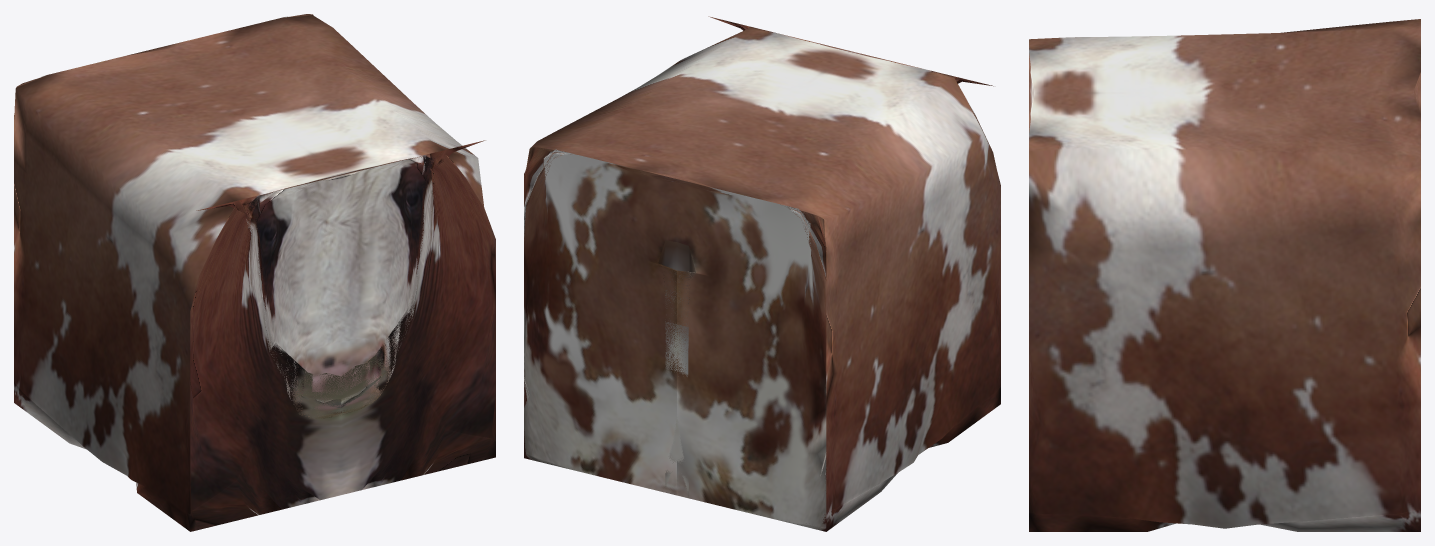
Rendered from cow-cube.glb.
The picture shows the model from 3 angles, left to right: view 1: azimuth 30°, elevation 25°; view 2: azimuth 150°, elevation 25°; view 3: azimuth 270°, elevation 25°; orthographic projection. The views are drawn at different scales.
Parts seen in each view (by area): view 1: Morph; view 2: Morph; view 3: Morph.
Part boxes in pixels (x1=…): Morph: x1=14, y1=14, x2=495, y2=531; Morph: x1=524, y1=16, x2=1000, y2=531; Morph: x1=1029, y1=19, x2=1420, y2=531.
Bounding box in the file's own units: 5.4 × 5.4 × 5.4.
1 material, 1 textured.
